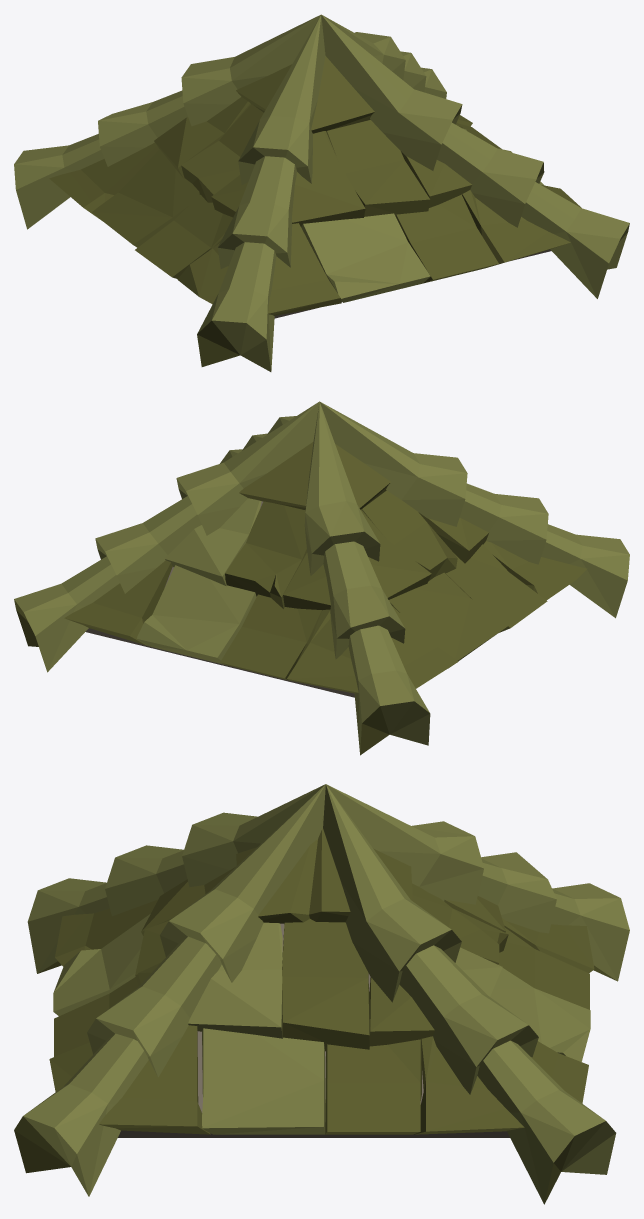
File: _ROOF_UP_1.fbx
The picture shows the model from 3 angles, top to bottom: view 1: azimuth 30°, elevation 25°; view 2: azimuth 150°, elevation 25°; view 3: azimuth 270°, elevation 25°; orthographic projection. The views are drawn at different scales.
Parts seen in each view (by area): view 1: ROOF_UP_1; view 2: ROOF_UP_1; view 3: ROOF_UP_1.
Part boxes in pixels (x1=…): ROOF_UP_1: x1=14, y1=14, x2=629, y2=371; ROOF_UP_1: x1=14, y1=401, x2=629, y2=755; ROOF_UP_1: x1=14, y1=784, x2=629, y2=1204.
Size of the model in its own units: 144 by 74.54 by 142.
